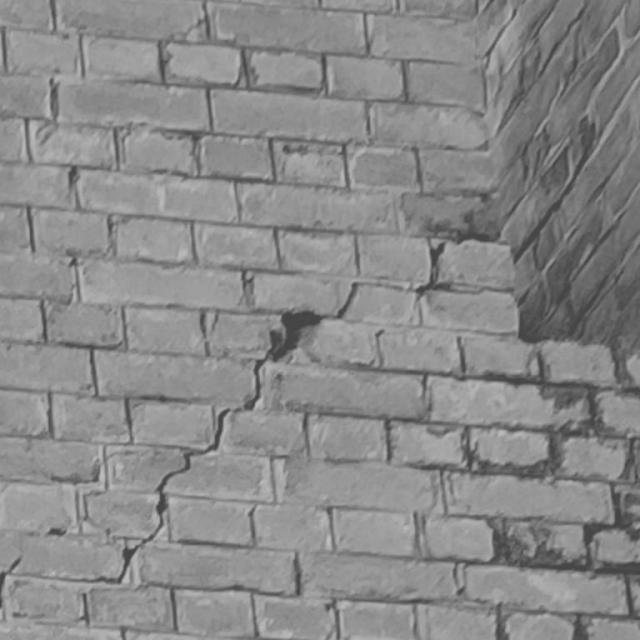crack: (106, 231, 514, 583)
